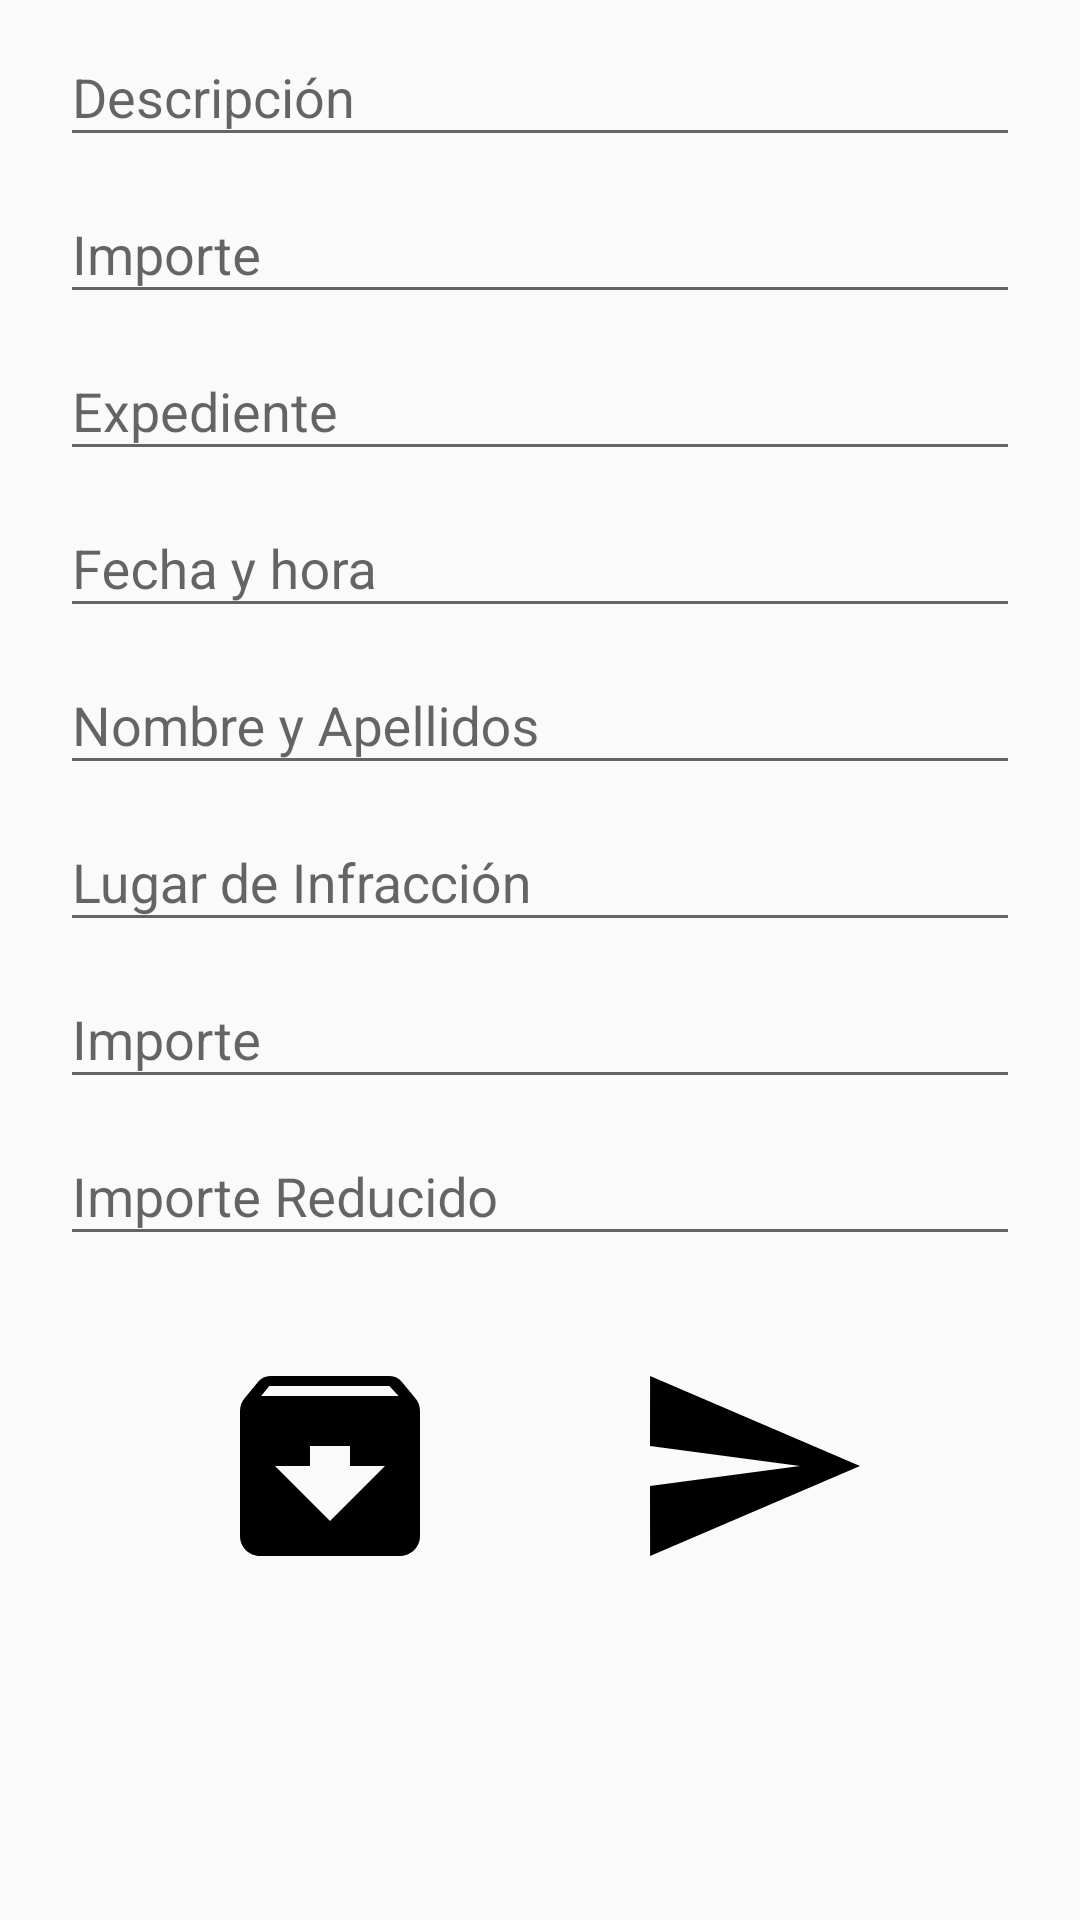

Icons on this 1080*1920 Android screen, each with its box as (x1=x1, y1=y1, x2=x2, y2=y2):
enviar: (x1=650, y1=1376, x2=860, y2=1556)
guardar: (x1=240, y1=1376, x2=420, y2=1556)
